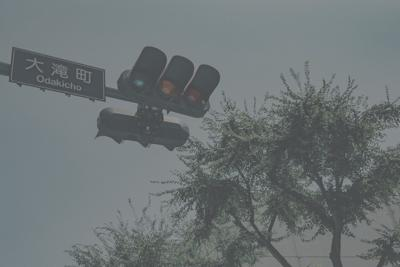International Road Signal Light: (100, 46, 219, 149)
